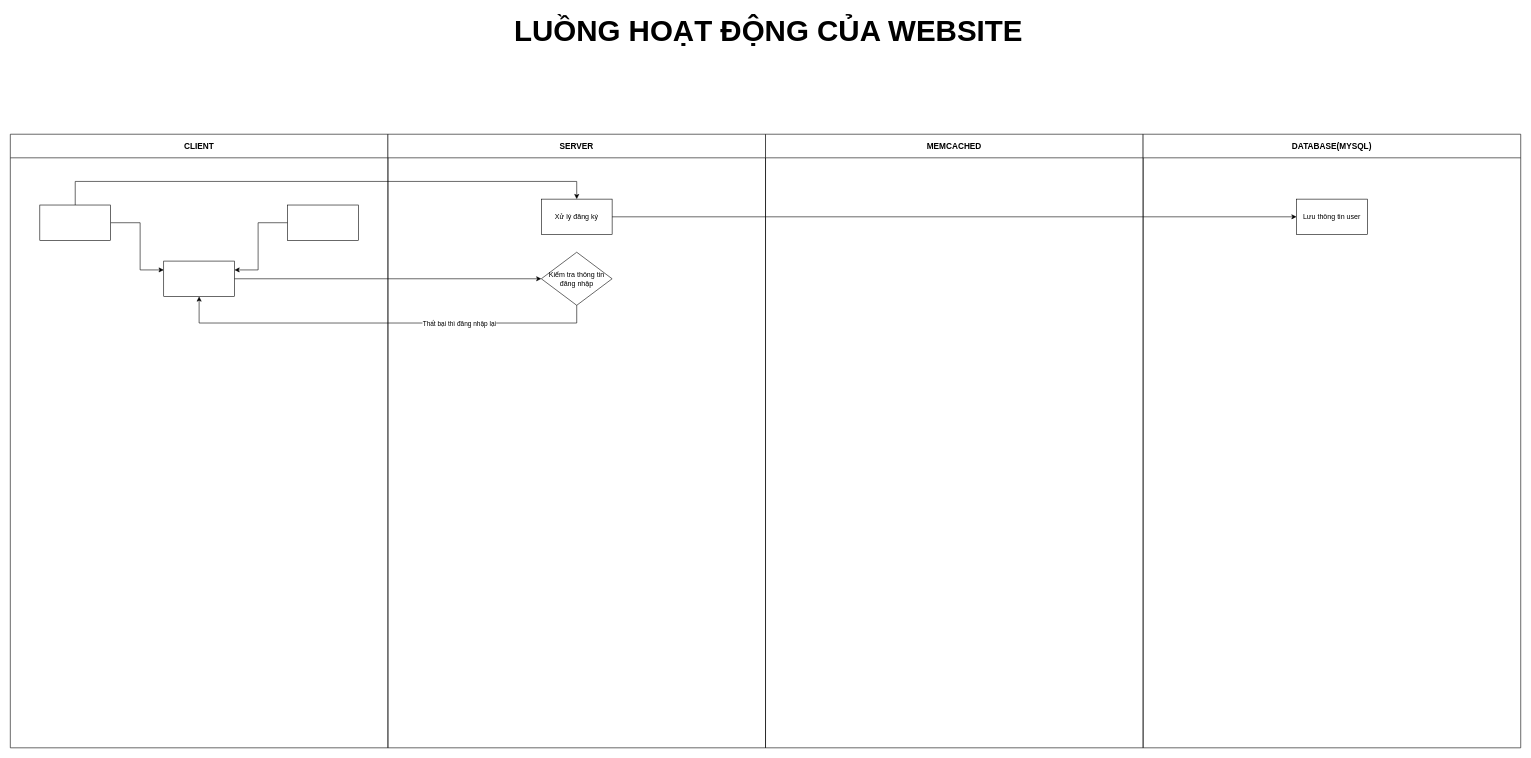
Image size: 1531x758. Some labels were removed from this diagram. Each missing label, with the centre of its shape:
Đăng ký: the point at 75,222
Đăng nhập: the point at 199,278
Đăng nhập với Social network: the point at 322,222
